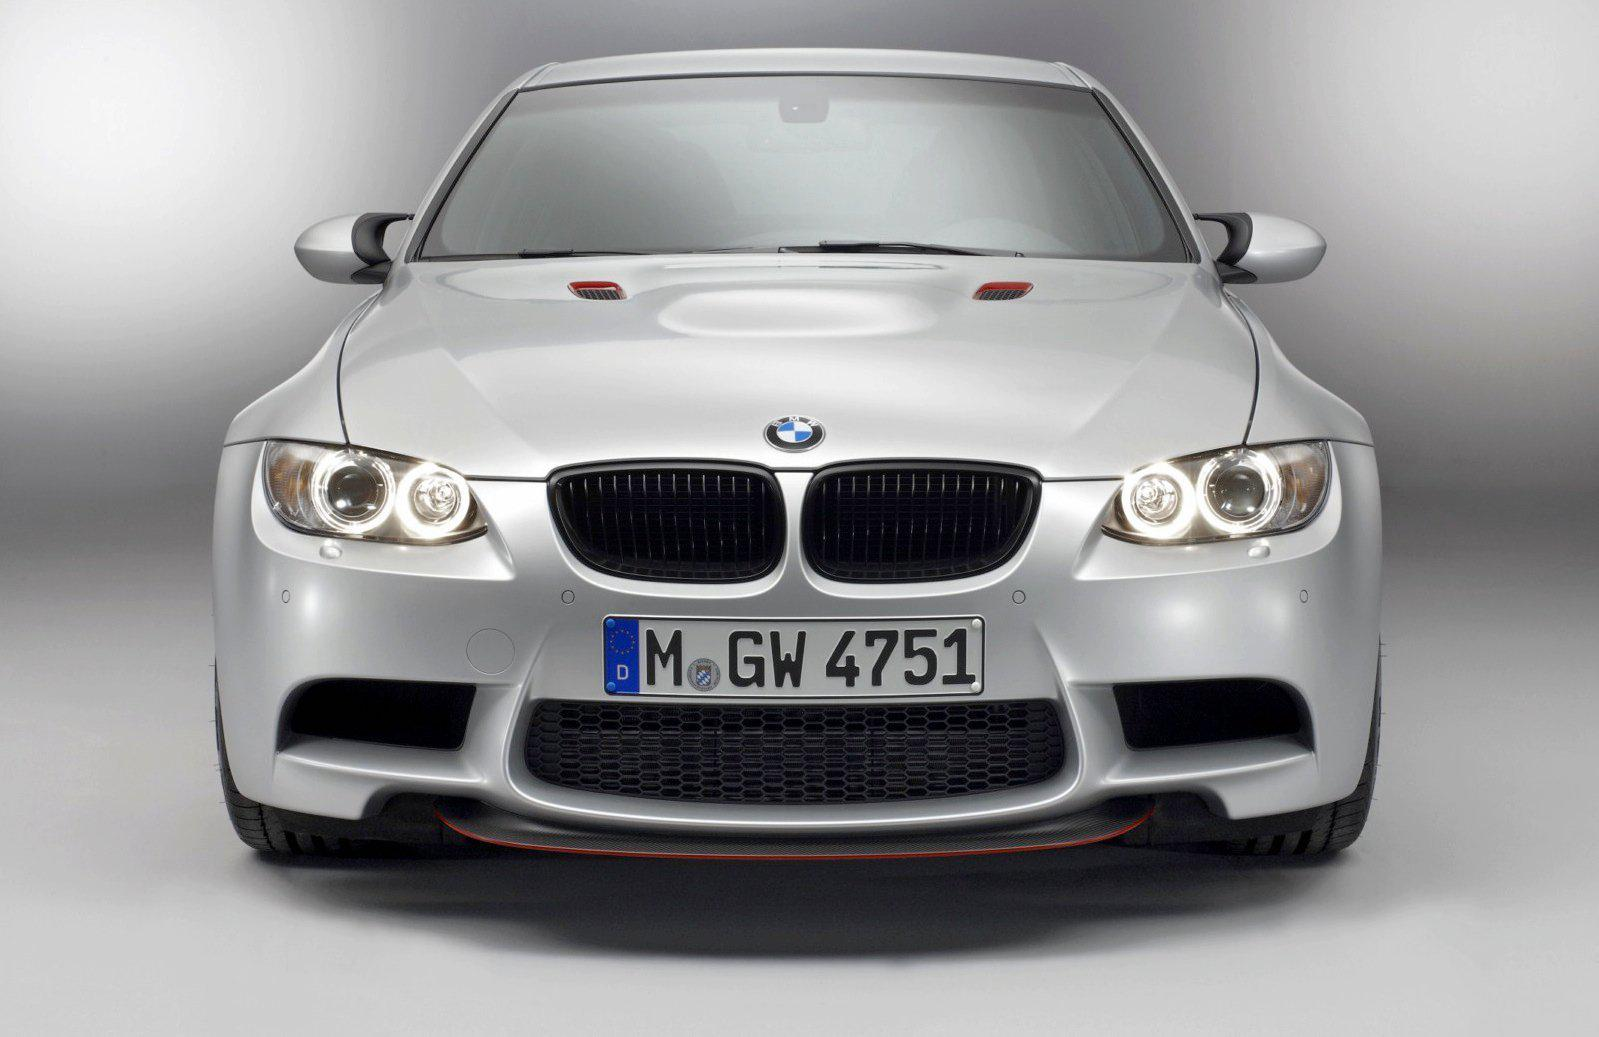Car: (82, 31, 1517, 951)
